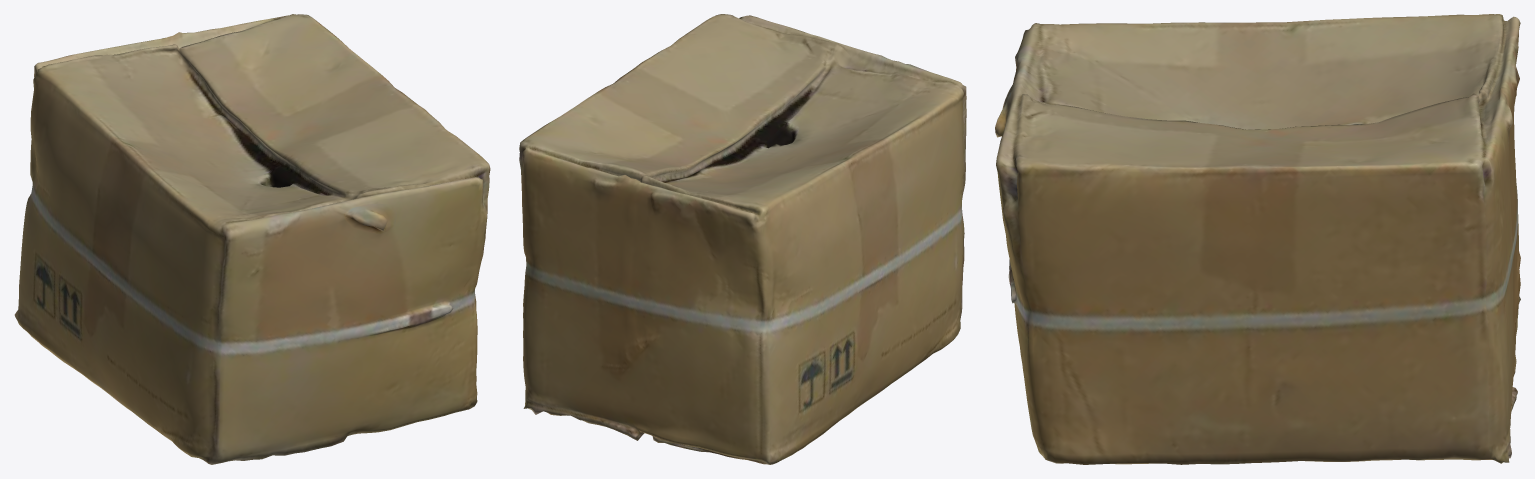
The model's file is cardboard_box_01.glb.
The picture shows the model from 3 angles, left to right: view 1: azimuth 30°, elevation 25°; view 2: azimuth 150°, elevation 25°; view 3: azimuth 270°, elevation 25°; orthographic projection. The views are drawn at different scales.
Visible parts, largest first — view 1: cardboard_box_01; view 2: cardboard_box_01; view 3: cardboard_box_01.
Part boxes in pixels (x1=…): cardboard_box_01: x1=14, y1=14, x2=490, y2=464; cardboard_box_01: x1=519, y1=14, x2=966, y2=464; cardboard_box_01: x1=995, y1=14, x2=1520, y2=464.
Bounding box in the file's own units: 0.387 × 0.3418 × 0.5159.
Materials: 1 (1 with a texture image).
